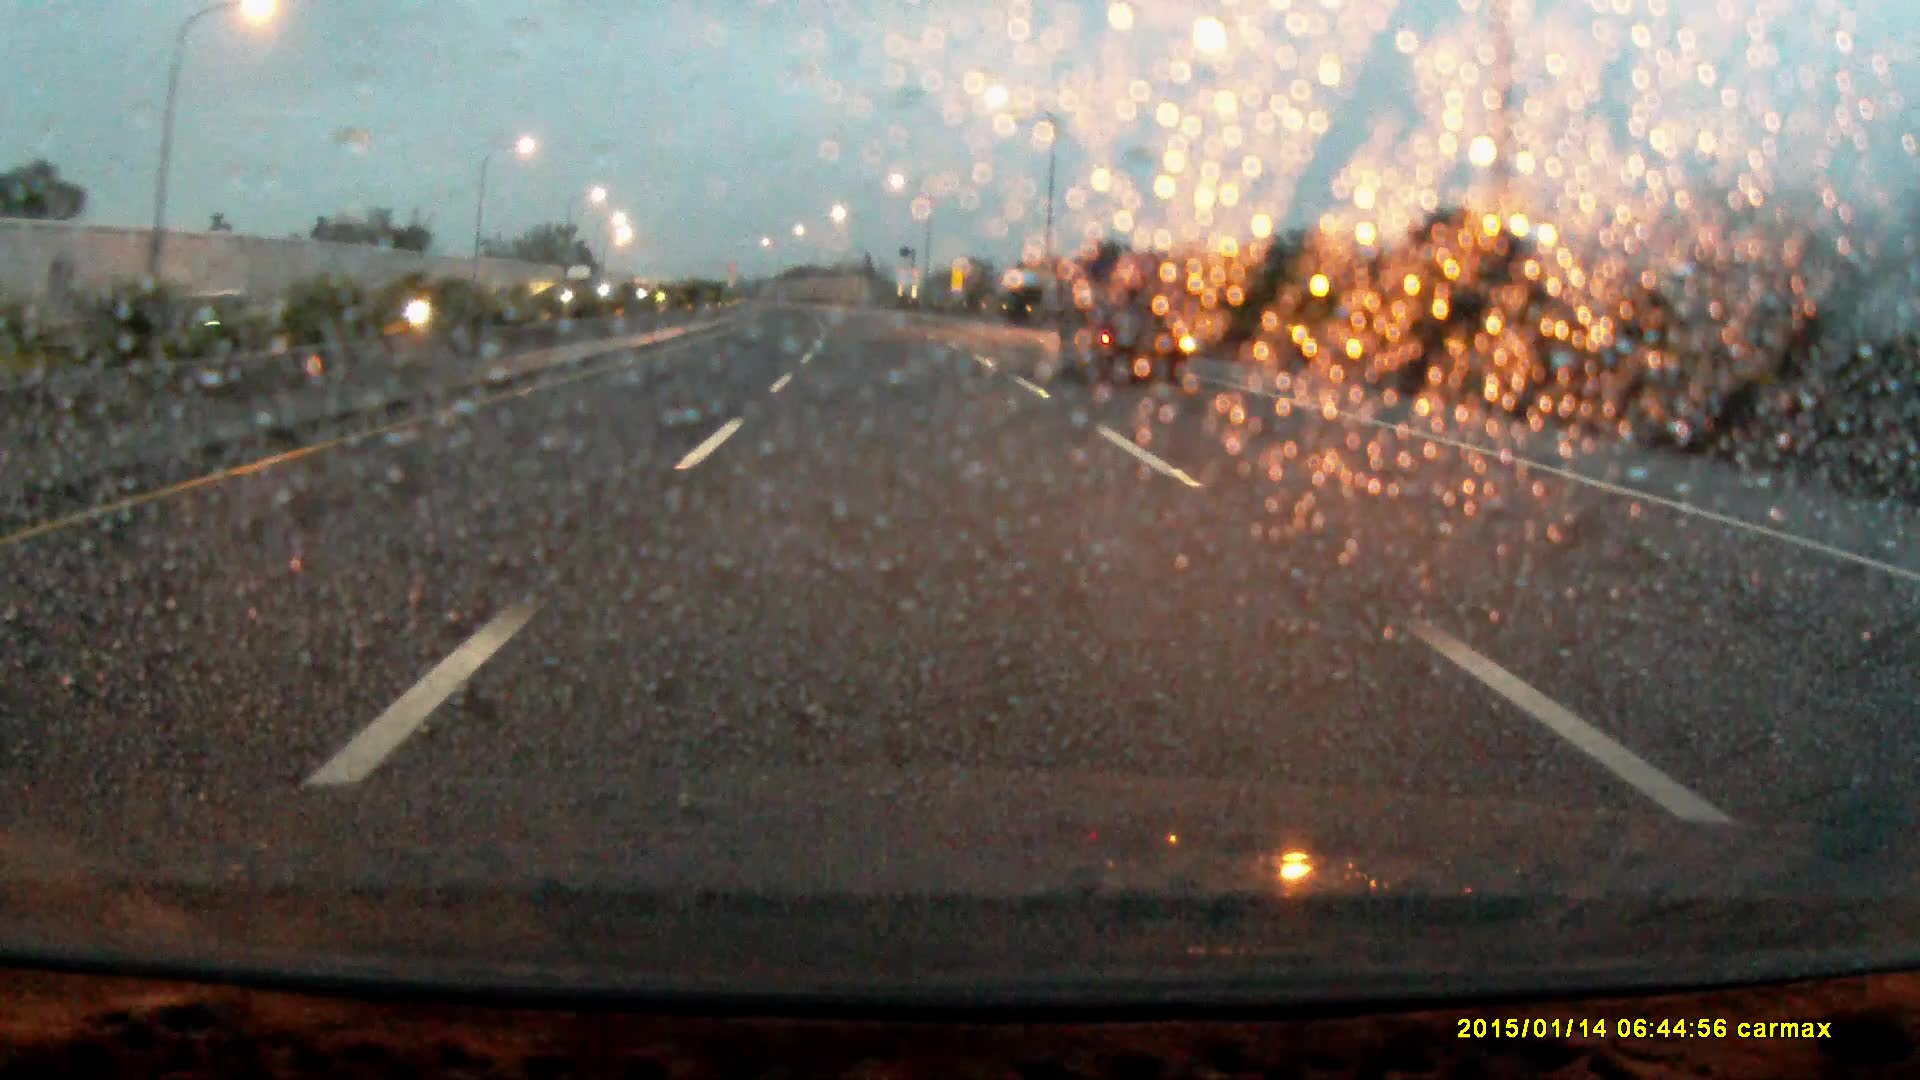vehicle: (1055, 256, 1195, 394), (564, 262, 601, 313)
